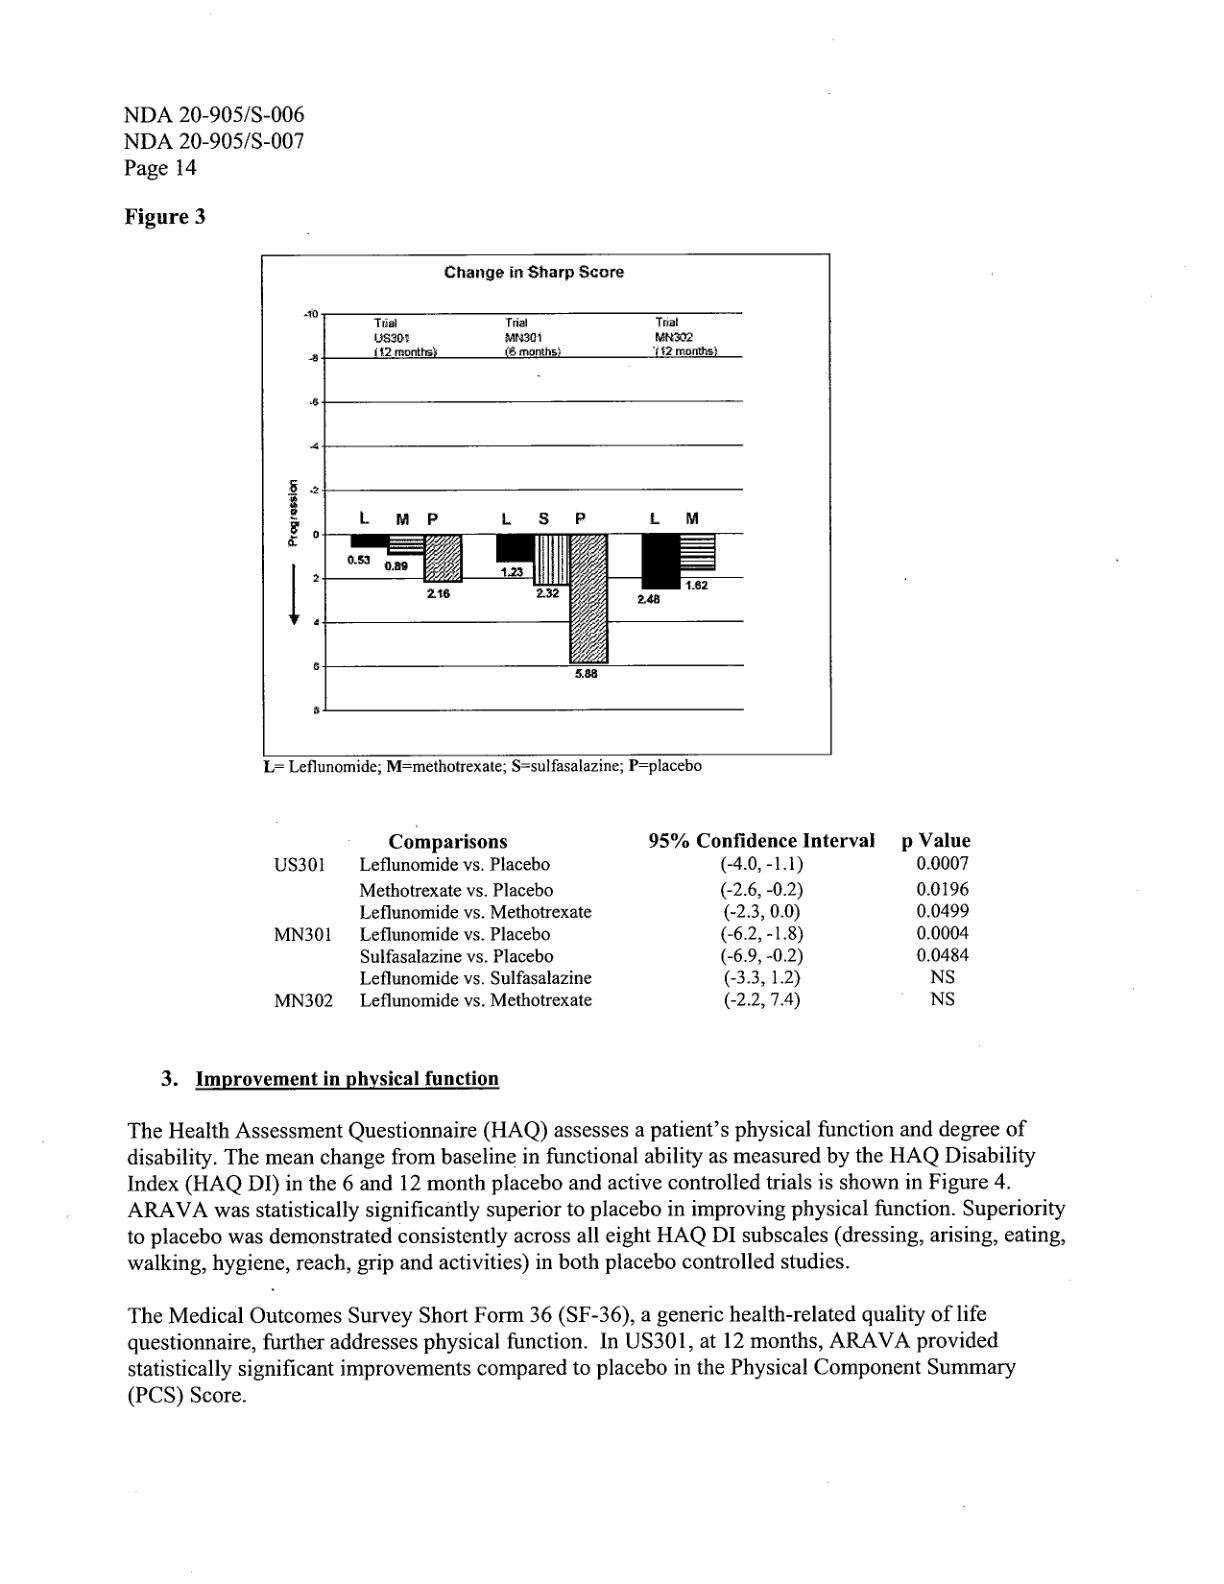nolines: (273, 832, 972, 1009)
